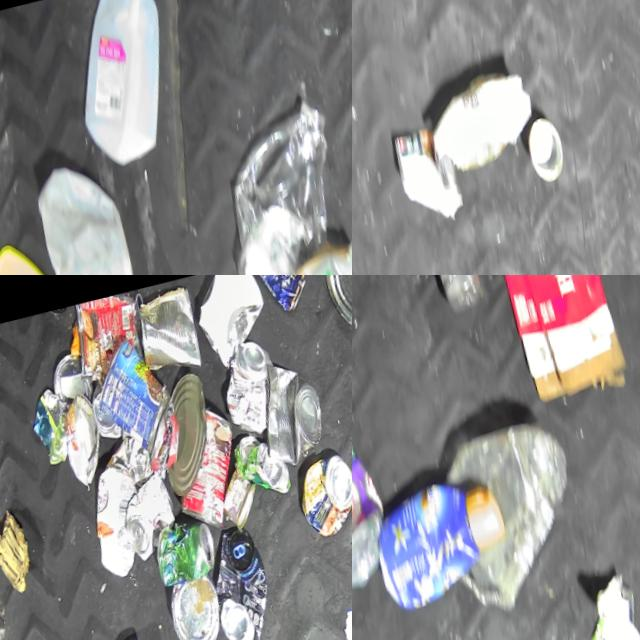can: (84, 327, 188, 464), (160, 402, 256, 536), (247, 353, 336, 473), (147, 369, 227, 498), (201, 523, 287, 640), (213, 336, 288, 441), (66, 290, 151, 382), (128, 283, 207, 381), (117, 468, 189, 564), (55, 387, 115, 489), (292, 450, 352, 542), (153, 514, 226, 589), (230, 427, 298, 505), (165, 574, 236, 640), (523, 112, 576, 189), (216, 465, 269, 532), (243, 275, 313, 322), (46, 348, 99, 408), (311, 275, 352, 343), (87, 377, 127, 443)
milk_jug: (54, 0, 192, 179), (22, 150, 156, 275)
non_white_jug: (367, 461, 524, 616)
plastic_bottle: (393, 275, 500, 327)
